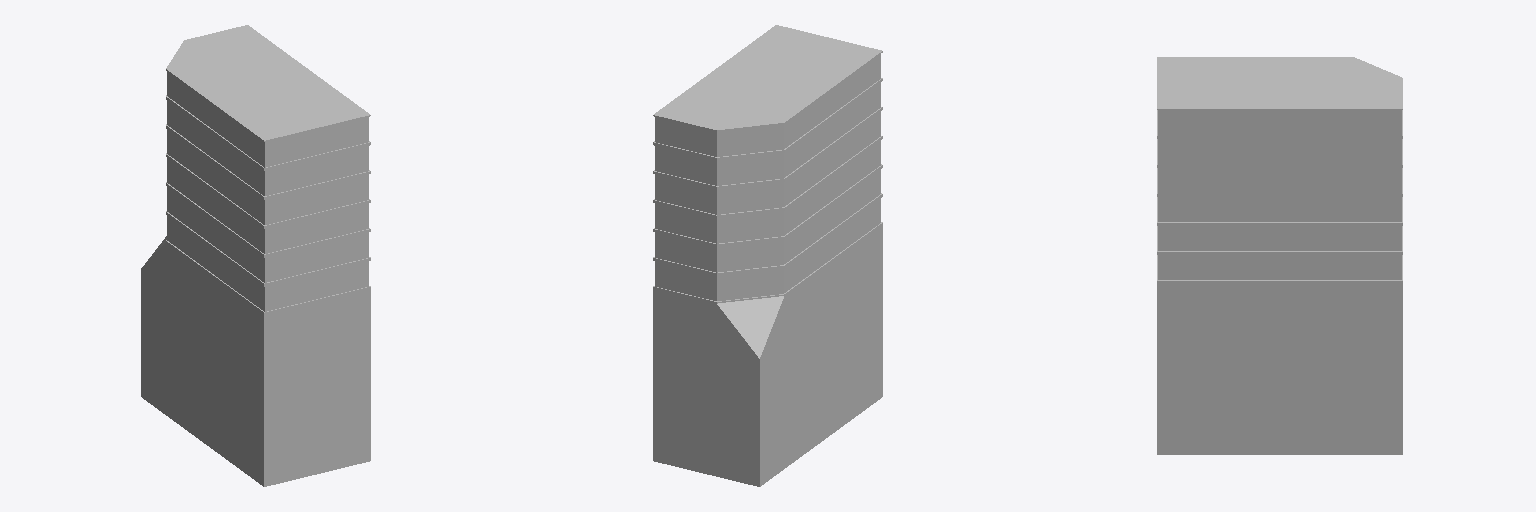
The model's file is angle.obj.
3 renders of one model, left to right at view 1: azimuth 30°, elevation 25°; view 2: azimuth 150°, elevation 25°; view 3: azimuth 270°, elevation 25°, orthographic.
Parts seen in each view (by area): view 1: Cube_Cube.002; view 2: Cube_Cube.002; view 3: Cube_Cube.002.
Boxes of the visible parts, <box> form: Cube_Cube.002: <box>141,25,370,486</box>; Cube_Cube.002: <box>653,25,882,486</box>; Cube_Cube.002: <box>1157,57,1402,454</box>.
Bounding box in the file's own units: 30 × 93.04 × 60.